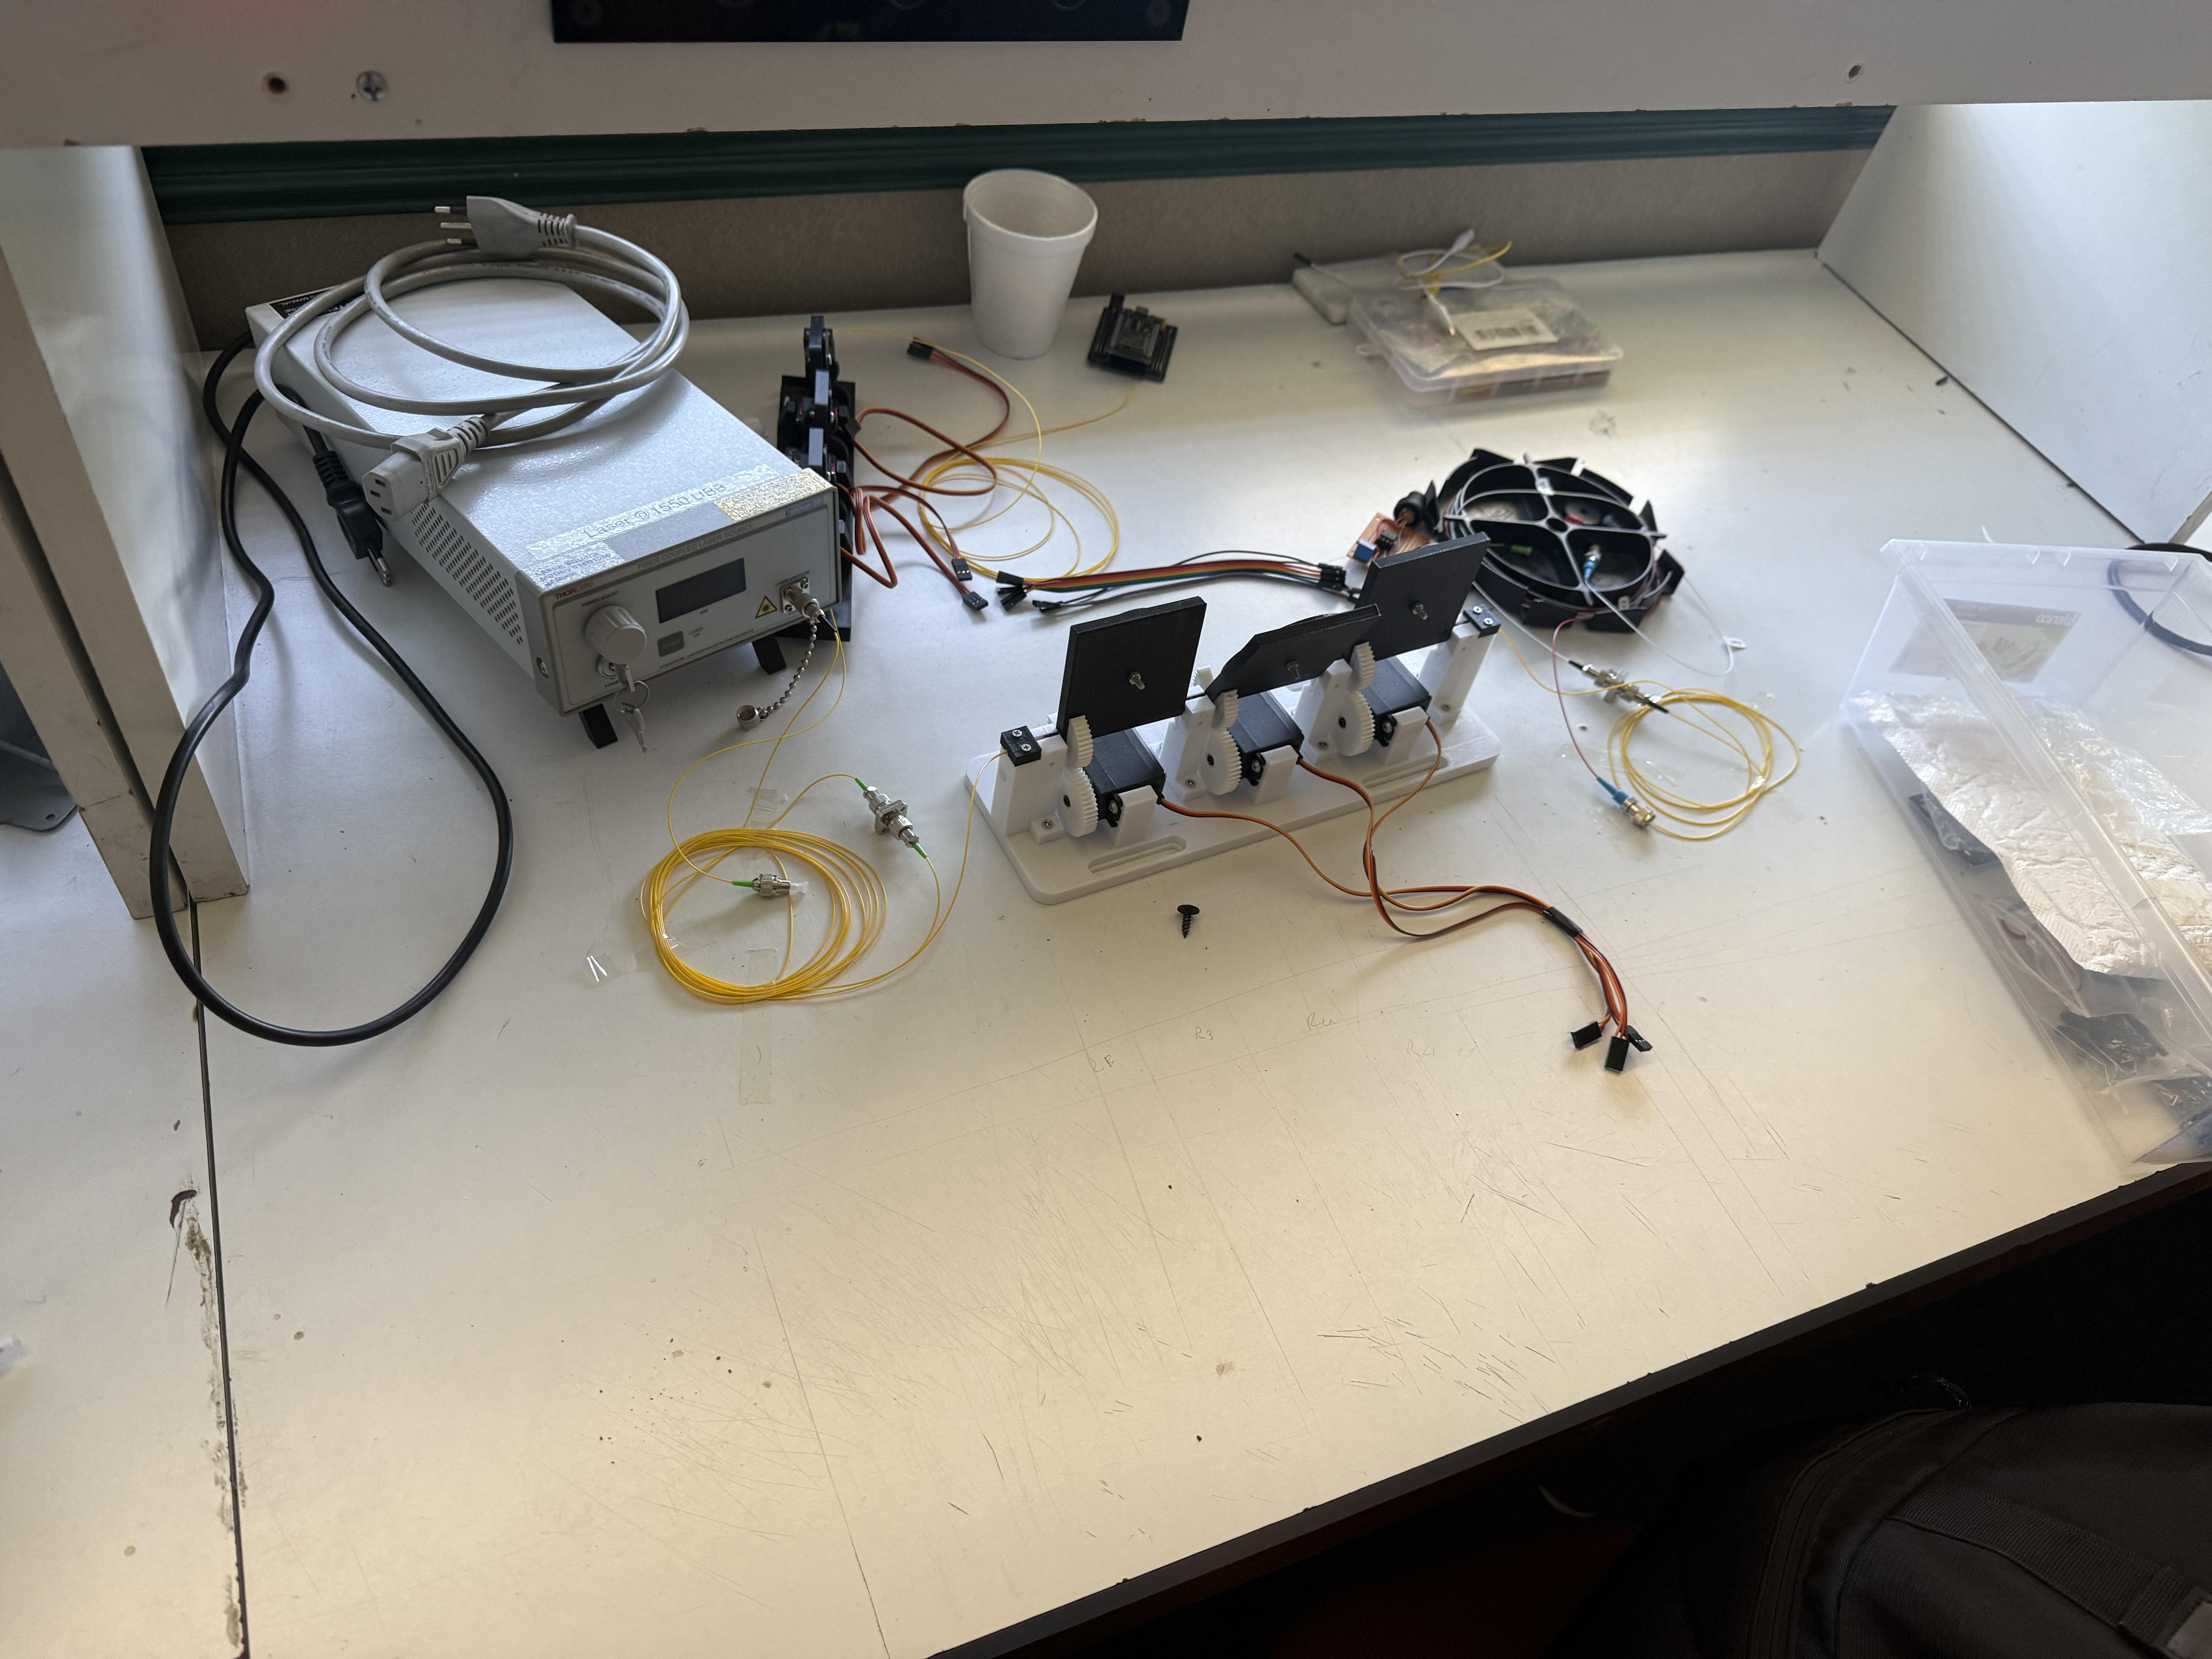fiber_cable: (620, 817, 885, 1015)
paddle_polarization_controller: (949, 527, 1520, 926), (765, 310, 875, 639)
